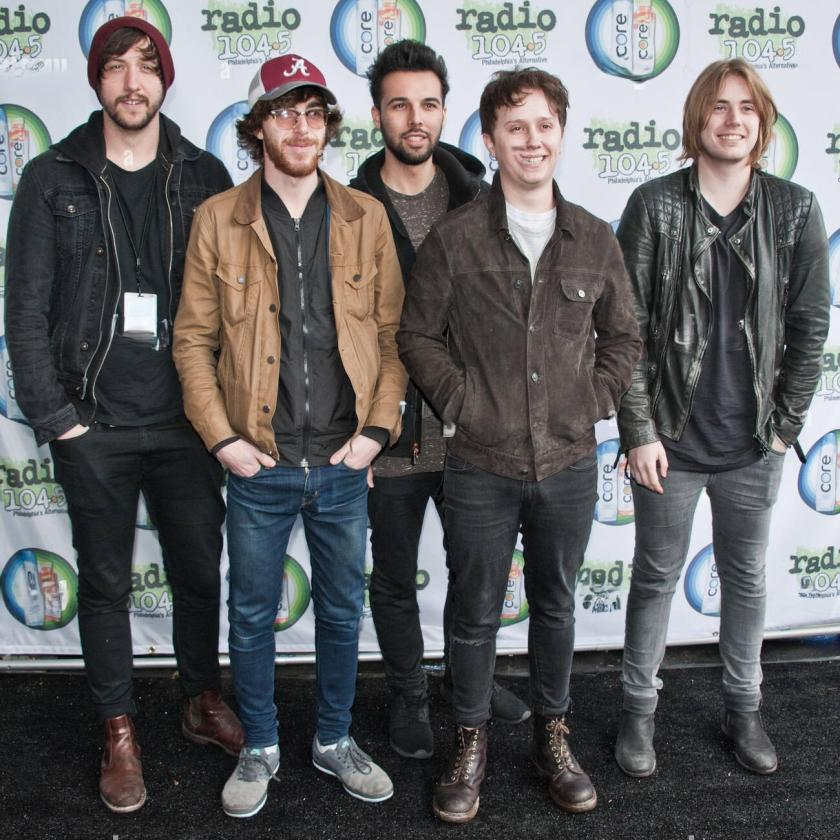Sin_casco: (371, 37, 463, 178), (681, 56, 787, 178), (478, 68, 571, 206)
